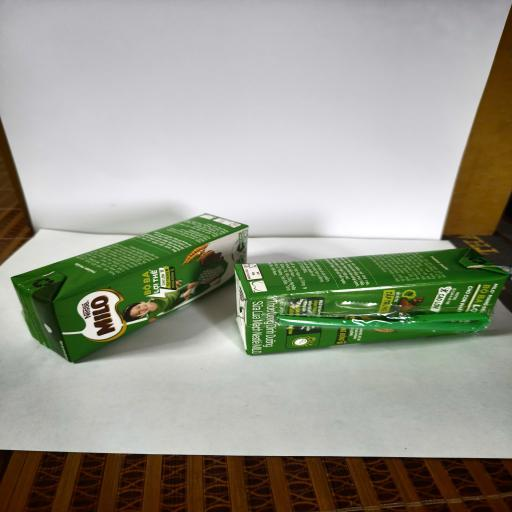milo: (11, 213, 249, 364), (233, 247, 510, 356)
